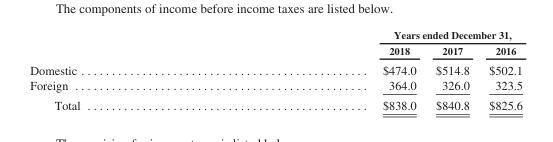table: (29, 28, 522, 111)
table column: (29, 28, 230, 111), (230, 28, 425, 111), (425, 28, 478, 111), (478, 28, 522, 111)
table column header: (29, 28, 522, 59)
table row: (29, 76, 522, 94), (29, 42, 522, 59), (29, 59, 522, 76), (29, 94, 522, 111), (29, 28, 522, 42)
table spanning cell: (230, 28, 522, 42)
